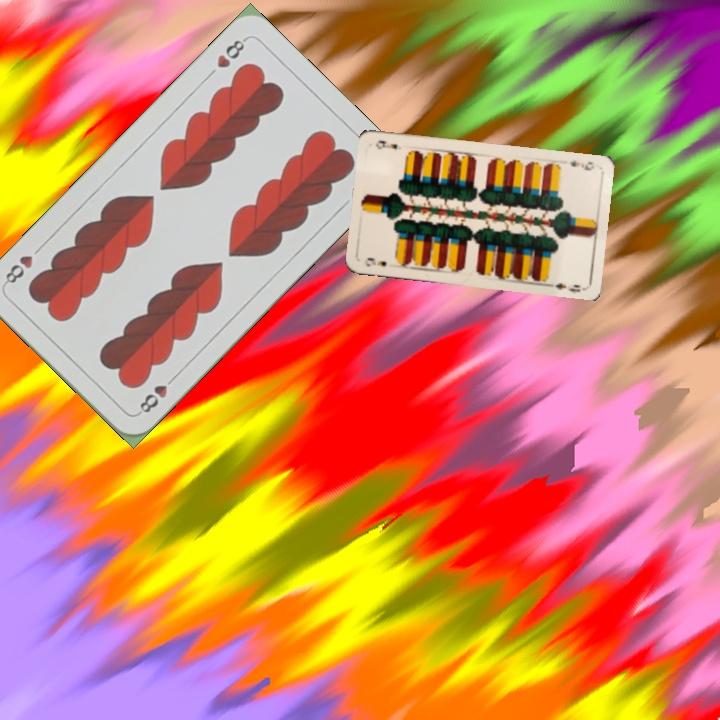E9: (565, 156, 597, 173), (362, 253, 389, 269)
H8: (133, 371, 179, 417), (212, 33, 249, 71)
